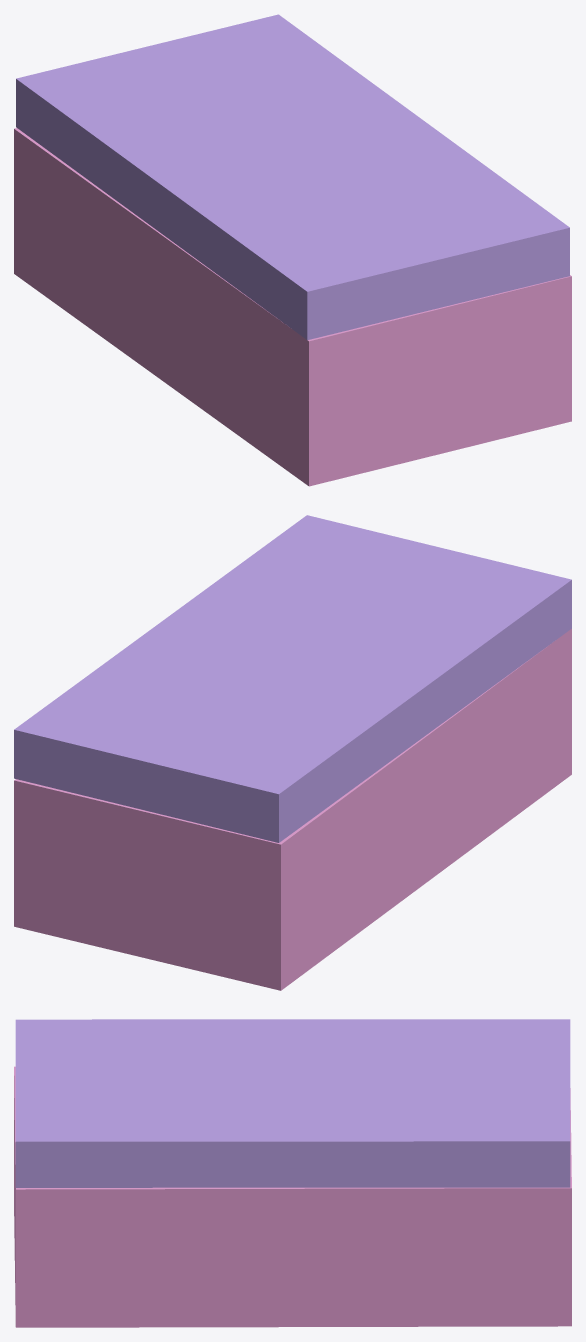
The model's file is supply-crate-lonestar.glb.
The picture shows the model from 3 angles, top to bottom: view 1: azimuth 30°, elevation 25°; view 2: azimuth 150°, elevation 25°; view 3: azimuth 270°, elevation 25°; orthographic projection. The views are drawn at different scales.
Visible parts, largest first — view 1: lid_J, root_J; view 2: lid_J, root_J; view 3: lid_J, root_J.
Boxes of the visible parts, bbox=[...] form: lid_J: bbox=[16, 14, 569, 340]; root_J: bbox=[14, 128, 571, 486]; lid_J: bbox=[14, 515, 571, 842]; root_J: bbox=[14, 629, 571, 990]; lid_J: bbox=[15, 1019, 570, 1187]; root_J: bbox=[14, 1066, 571, 1327].
Size of the model in its own units: 0.692 by 0.482 by 1.31.
